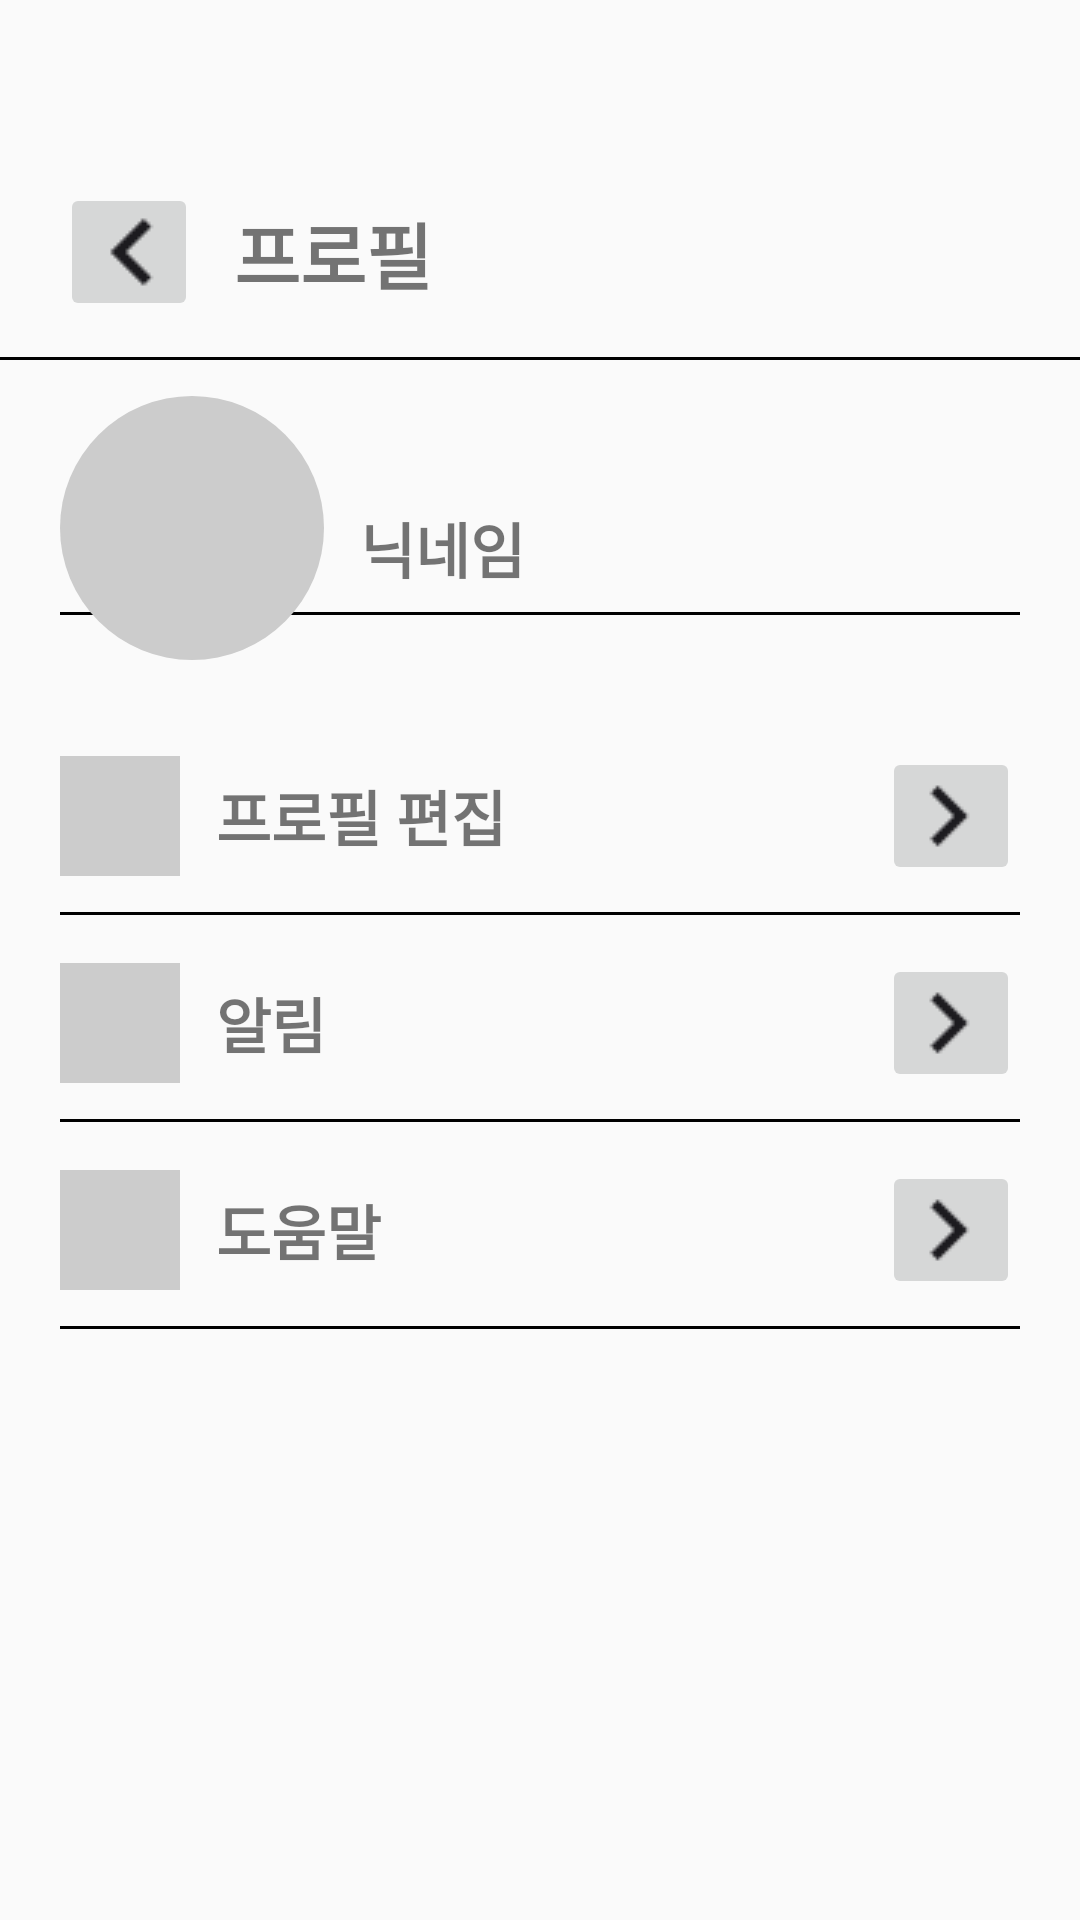

Where icons sit on this 1080px x 1920px app screen, as (x1, y1, x2, y2):
back: (72, 201, 186, 303)
